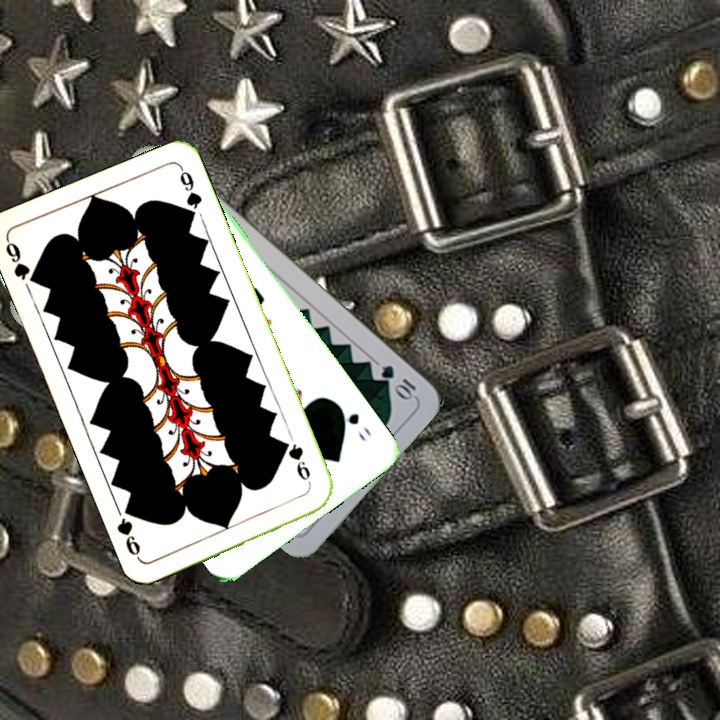G10: (377, 360, 419, 402)
G9: (1, 236, 42, 288), (279, 437, 315, 490)
GO: (333, 400, 374, 444)
